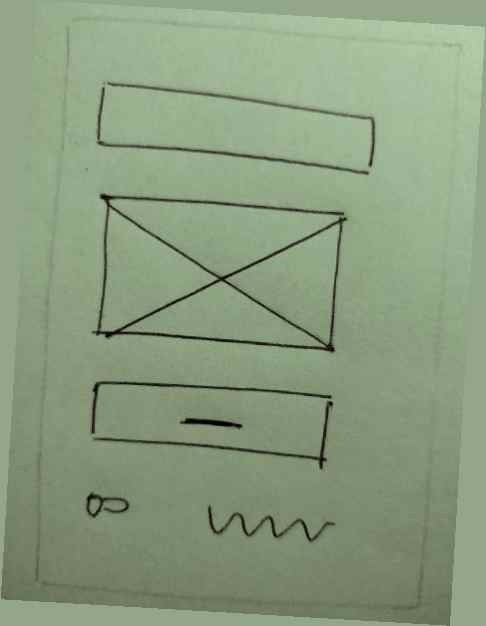button: (82, 368, 340, 477)
image: (82, 185, 352, 365)
switch: (70, 479, 143, 531)
text: (186, 495, 344, 555)
text_input: (87, 72, 384, 185)
